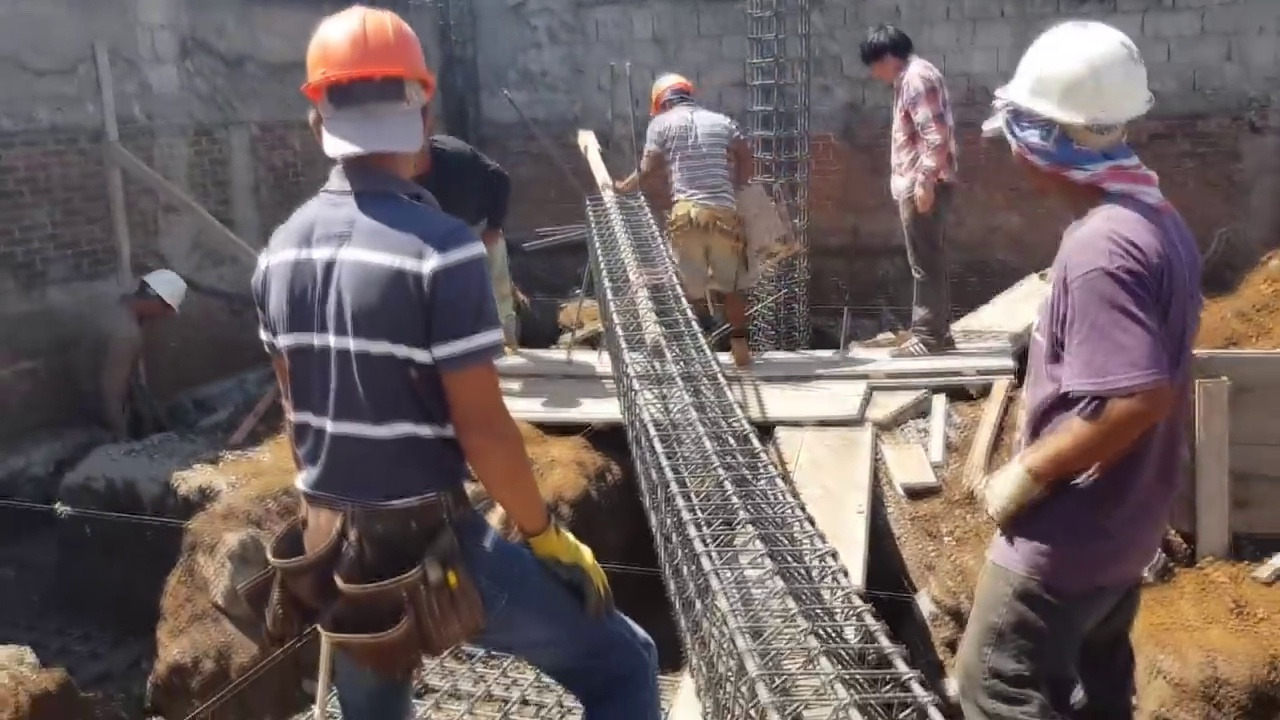helmet: (1000, 17, 1154, 134), (298, 3, 437, 124), (143, 266, 188, 321), (650, 68, 697, 107)
helmet-off: (862, 23, 915, 83)
helmet-on: (984, 16, 1155, 221), (298, 5, 440, 183), (120, 268, 188, 326), (642, 66, 696, 115)
person: (239, 7, 665, 720), (946, 20, 1202, 720), (628, 65, 761, 369), (858, 26, 964, 364), (61, 265, 193, 435), (424, 140, 520, 348)
